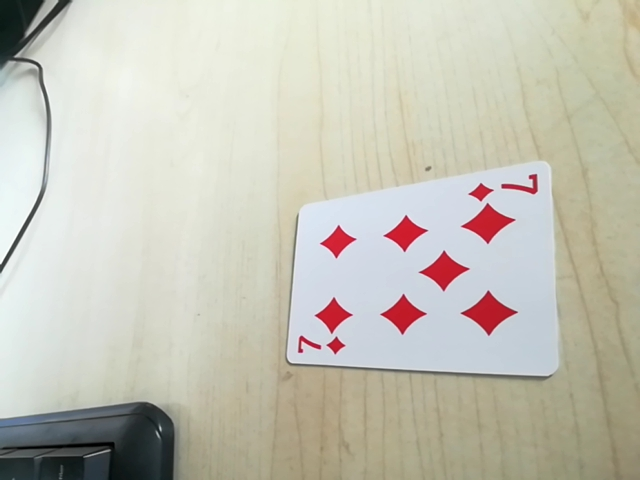fk 7: (465, 168, 542, 203), (292, 333, 348, 361)
